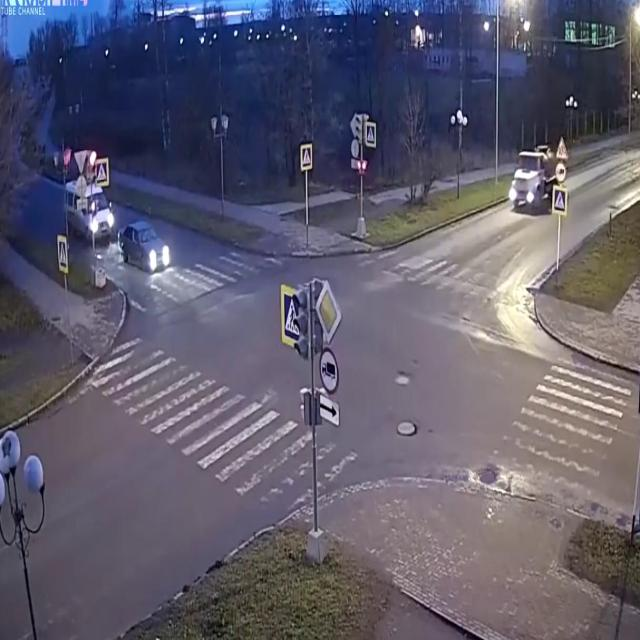non_accident: (62, 164, 174, 280)
